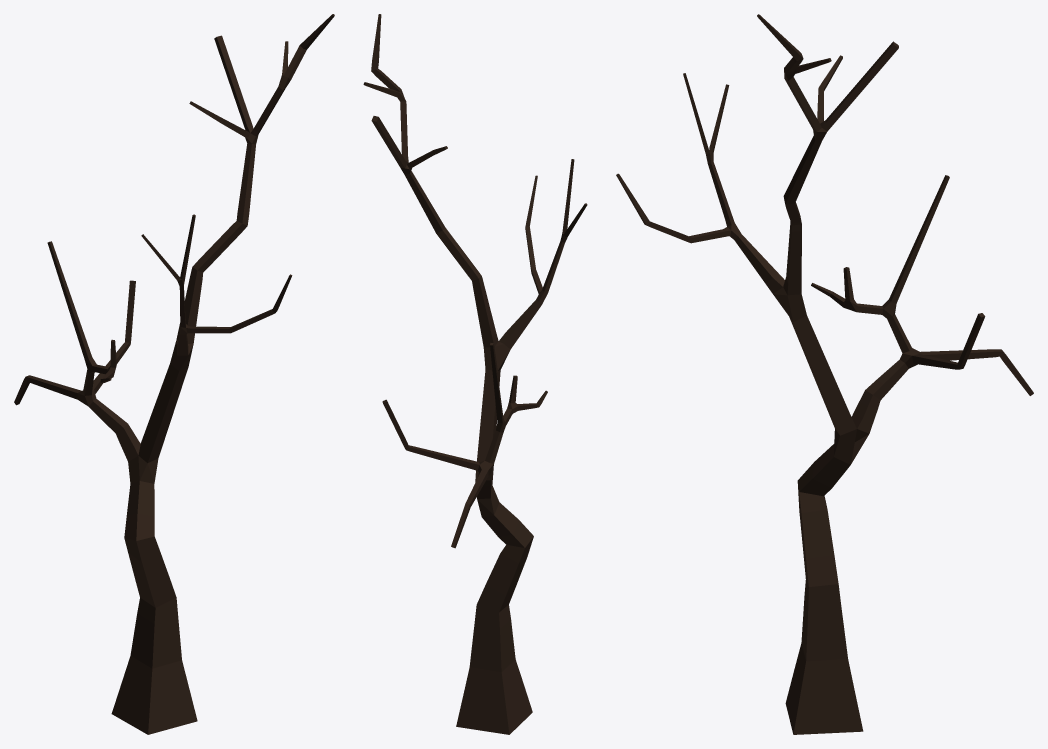
The model's file is Brown_Tree.fbx.
3 renders of one model, left to right at view 1: azimuth 30°, elevation 25°; view 2: azimuth 150°, elevation 25°; view 3: azimuth 270°, elevation 25°, orthographic. The views are drawn at different scales.
Parts seen in each view (by area): view 1: Brown Tree; view 2: Brown Tree; view 3: Brown Tree.
Boxes of the visible parts, bbox=[...] form: Brown Tree: bbox=[14, 14, 334, 734]; Brown Tree: bbox=[363, 14, 587, 734]; Brown Tree: bbox=[616, 14, 1033, 734].
Size of the model in its own units: 113 by 360 by 173.
